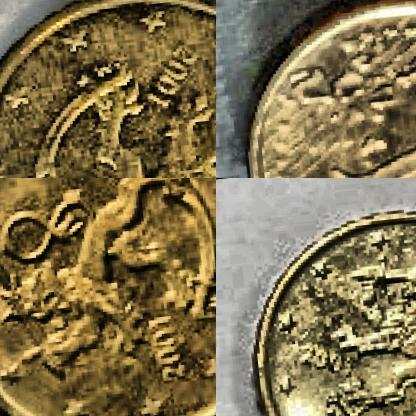coin: (0, 178, 215, 415), (237, 192, 415, 415), (0, 0, 215, 177), (237, 0, 415, 177)
